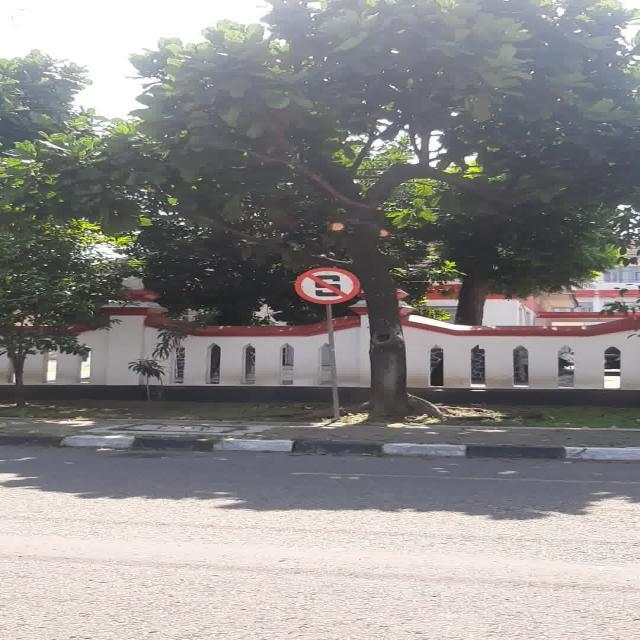Dilarang Berhenti: (295, 267, 360, 304)
